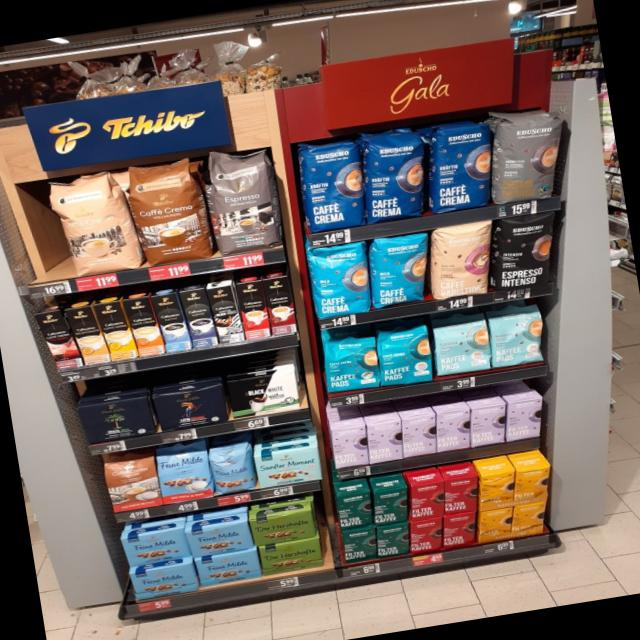BM Gemahlen: (74, 393, 158, 447)
BW Gemahlen: (224, 369, 302, 419)
CC Mild: (46, 166, 142, 282)
CC Vollmundig: (100, 448, 162, 516)
CC Vollmundig 36 Pads: (123, 154, 215, 270)
Espresso Aromatisch: (203, 142, 282, 256)
FM 36 Pads: (153, 441, 214, 504)
FM Bohne: (206, 442, 258, 496)
FM Gemahlen: (119, 524, 192, 568), (127, 560, 200, 601), (194, 548, 262, 588), (186, 518, 254, 558)
Herzhatfe Mundig: (249, 508, 318, 548), (258, 536, 324, 576)
LG Gemahlen: (152, 382, 231, 434)
SM Gemahlen: (252, 444, 322, 489)
Simo CC Colombia: (33, 309, 84, 369)
Simo CCMild bigpack: (94, 300, 140, 361)
Simo CCVollmundig bigpack: (122, 296, 166, 356)
Simo Decaff: (65, 305, 111, 366)
Simo Es Brazil: (236, 278, 272, 340)
Simo Es Caramel: (262, 275, 298, 336)
Simo Es Elegant: (207, 285, 246, 344)
Simo Es Kraft: (178, 288, 219, 348)
Simo Es Vanilla: (151, 292, 193, 352)
